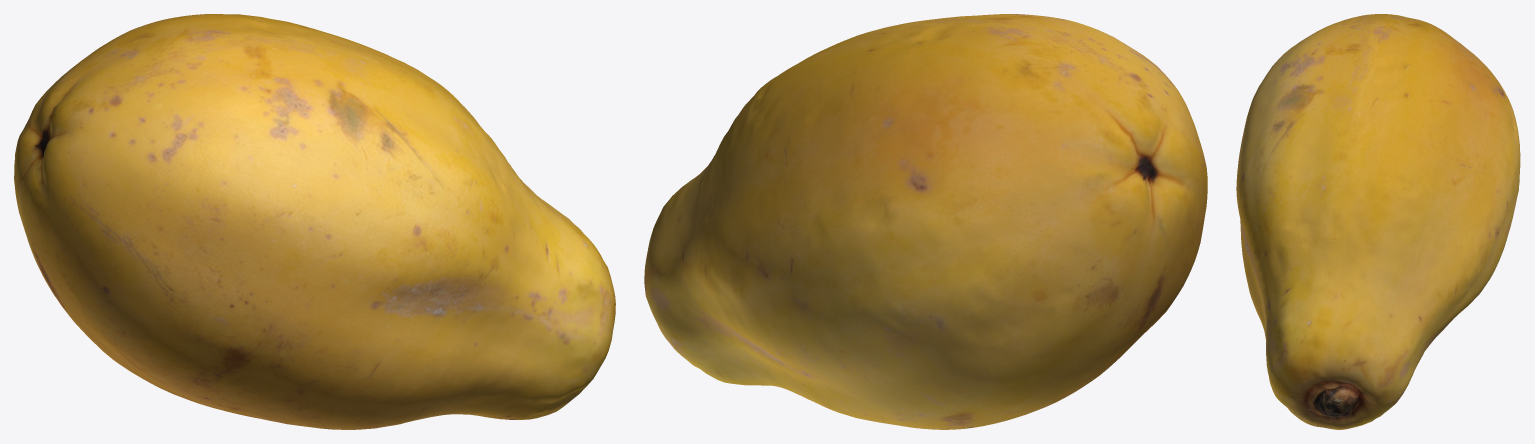
The model's file is YellowFruitPapaya.fbx.
3 renders of one model, left to right at view 1: azimuth 30°, elevation 25°; view 2: azimuth 150°, elevation 25°; view 3: azimuth 270°, elevation 25°, orthographic. The views are drawn at different scales.
Parts seen in each view (by area): view 1: Papaya; view 2: Papaya; view 3: Papaya.
Boxes of the visible parts, <box> form: Papaya: <box>14,14,615,429</box>; Papaya: <box>644,14,1207,429</box>; Papaya: <box>1236,14,1520,429</box>.
Bounding box in the file's own units: 0.1243 × 0.0814 × 0.0939.
Materials: 1 (1 with a texture image).
